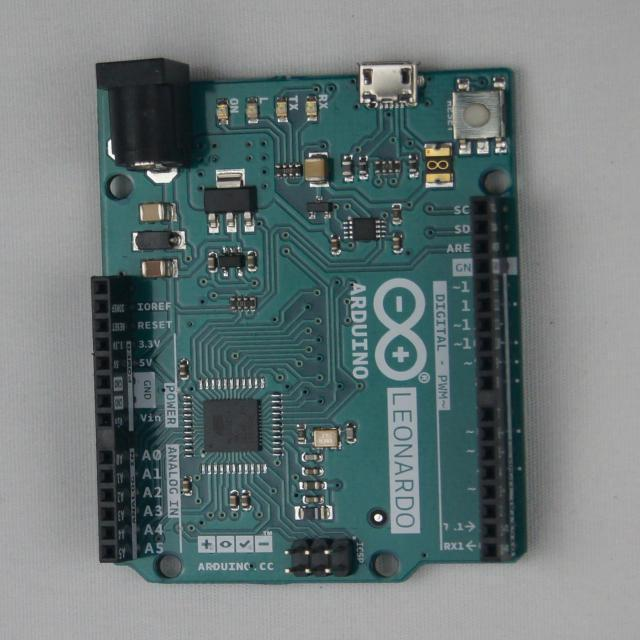Arduino-leonardo: (92, 60, 527, 584)
